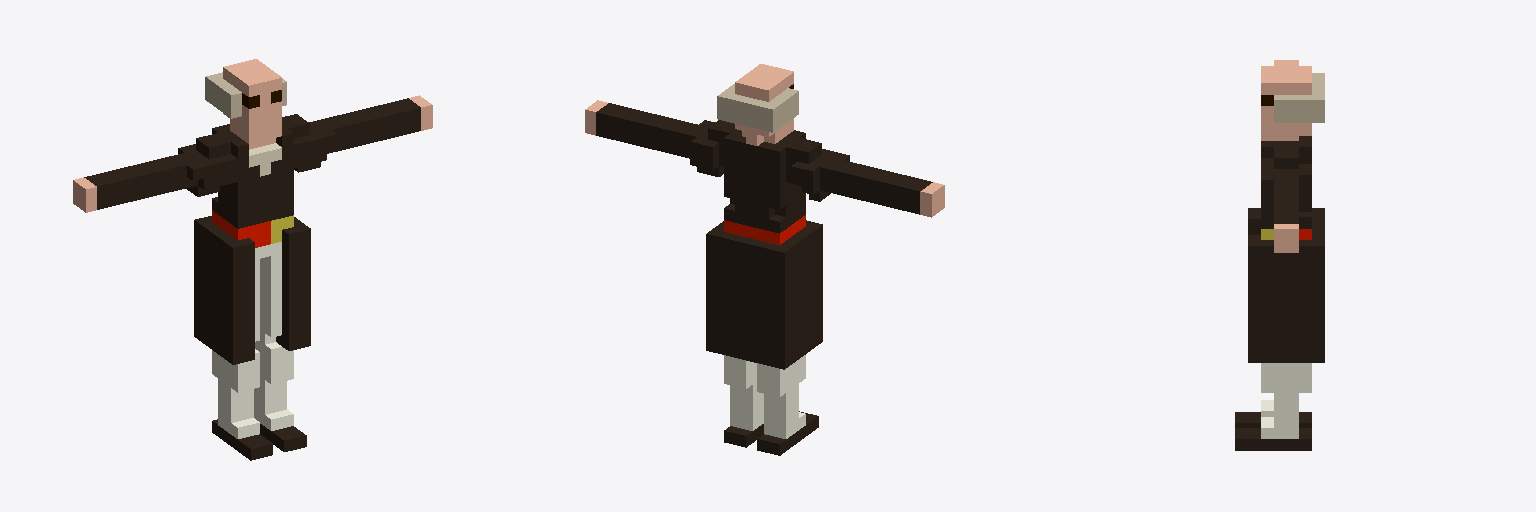
3 views of the same model, side by side, from view 1: azimuth 30°, elevation 25°; view 2: azimuth 150°, elevation 25°; view 3: azimuth 270°, elevation 25° (orthographic).
Size of the model in its own units: 31 by 31 by 7.
Materials: 1 (1 with a texture image).